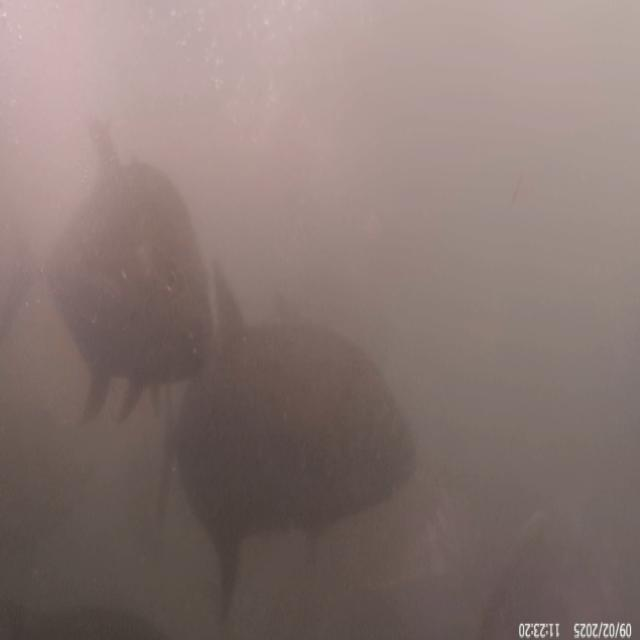ikan: (156, 256, 417, 620), (42, 114, 215, 428)
